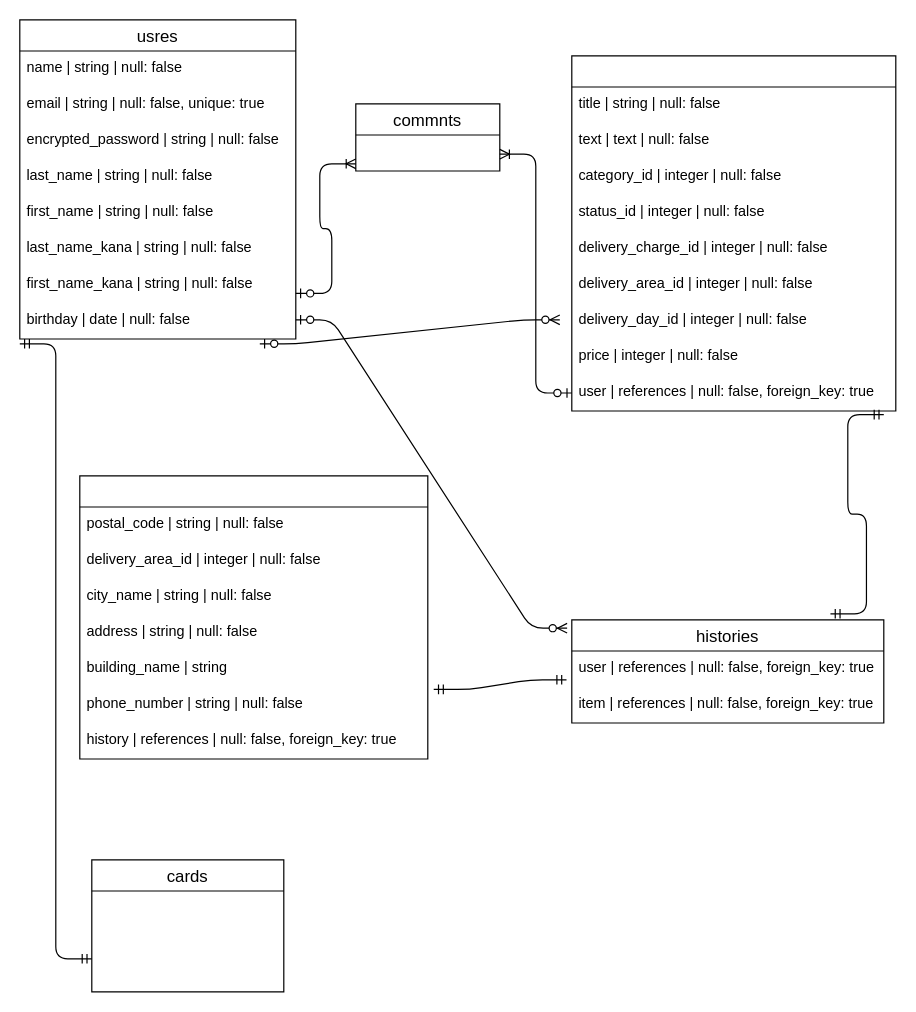
The diagram is 916 pixels wide and 1012 high, and some of its shapes have lost their labels. The box of each missing label's shape, as (x1, y1, x2, y2) in pixels:
addresses: (79, 475, 428, 759)
items: (571, 55, 896, 411)
